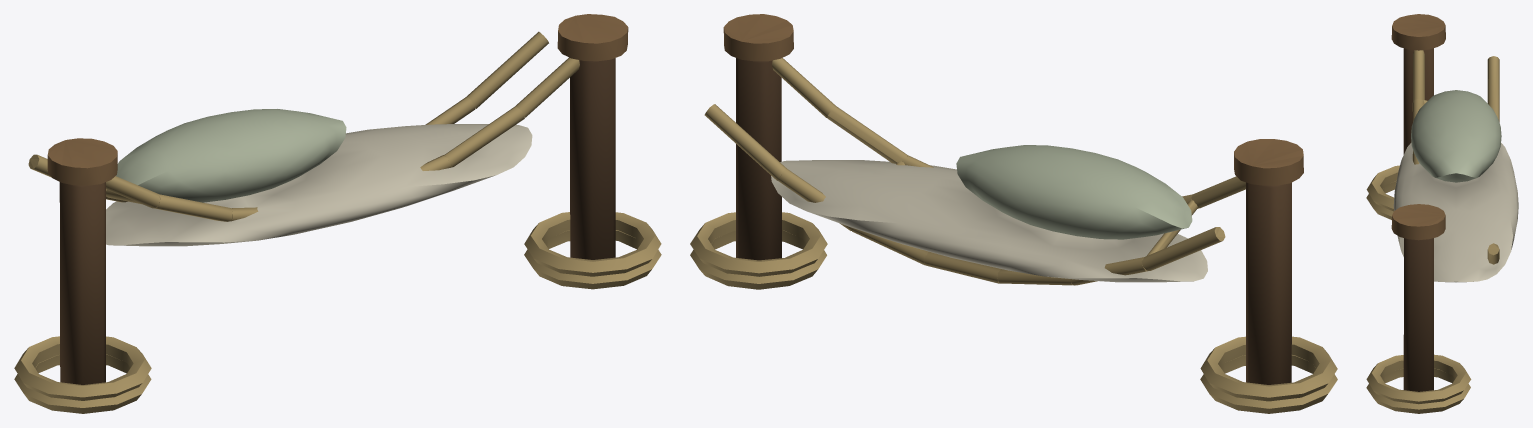
Rendered from hammock_rig_a.glb.
The picture shows the model from 3 angles, left to right: view 1: azimuth 30°, elevation 25°; view 2: azimuth 150°, elevation 25°; view 3: azimuth 270°, elevation 25°; orthographic projection. The views are drawn at different scales.
Parts seen in each view (by area): view 1: Surface; view 2: Surface; view 3: Surface.
Boxes of the visible parts, left/top/right/bottom form: Surface: left=14, top=14, right=661, bottom=413; Surface: left=690, top=14, right=1337, bottom=413; Surface: left=1366, top=14, right=1518, bottom=413.
Size of the model in its own units: 3.7 by 1.35 by 1.02.
